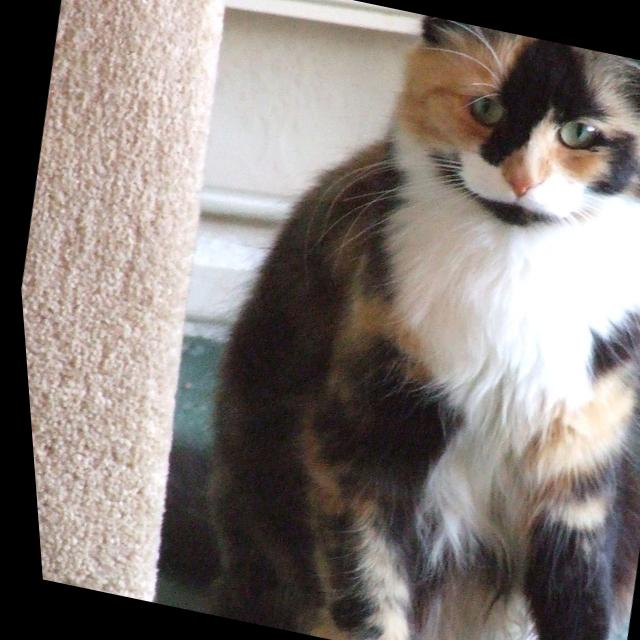animals: (394, 15, 640, 219)
